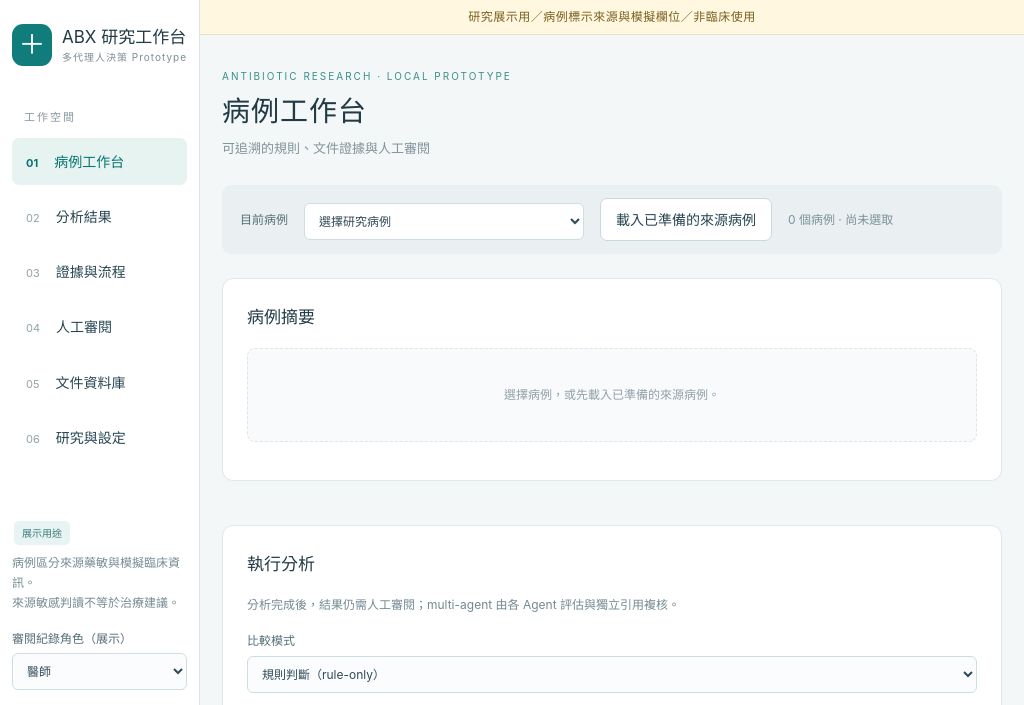
Test: embedding index failure remains visible to the user
Check: the button "載入已準備的來源病例" is enabled, box x1=600 y1=198 x2=772 y2=241
Click the button "05文件資料庫".
click(100, 382)  # box x1=12 y1=358 x2=187 y2=406
(page scrolled)
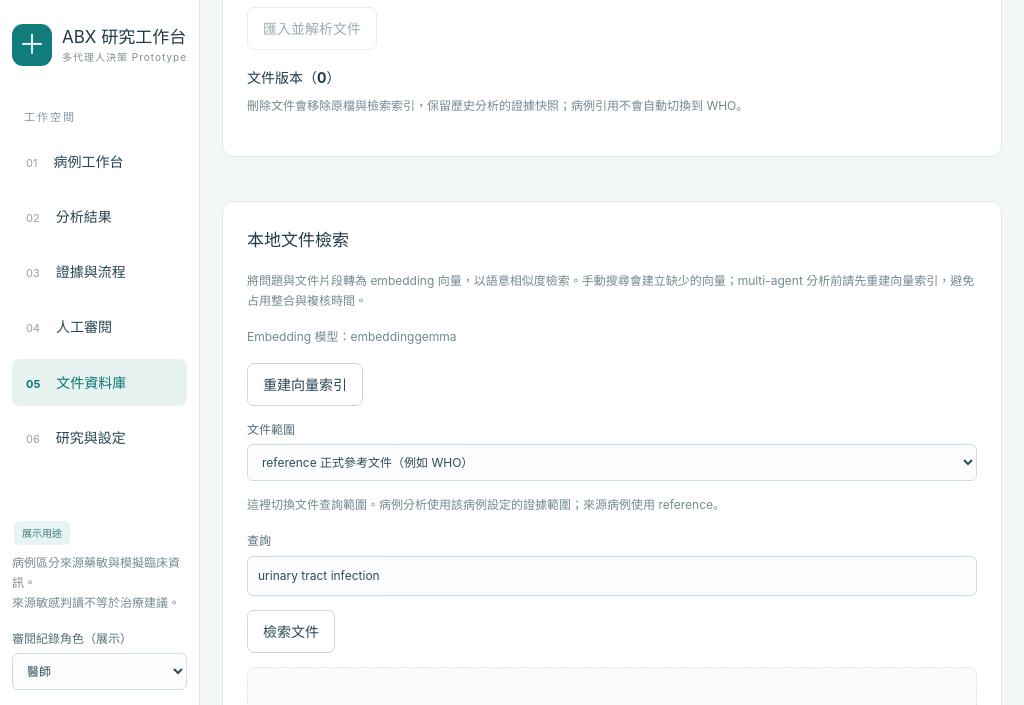
Check: the text "Embedding 模型：embeddinggemma" is shown, box x1=247 y1=329 x2=456 y2=344
Click the button "重建向量索引".
click(305, 384)  # box x1=247 y1=363 x2=363 y2=406
(page scrolled)
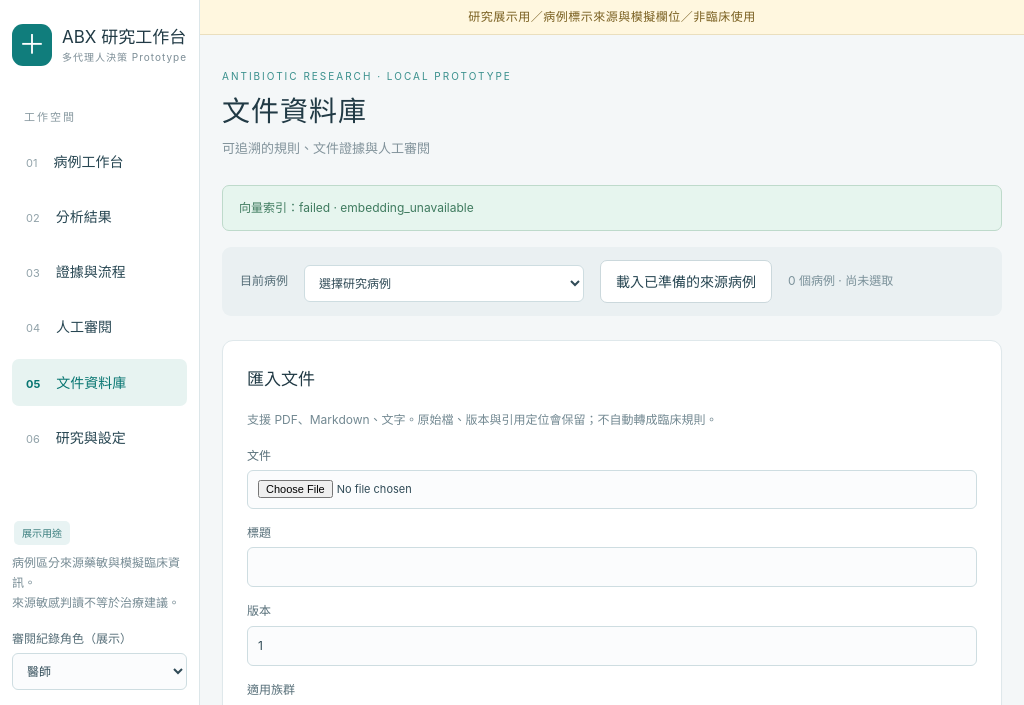
Check: the text "向量索引：failed · embedding_unavailable" is shown, box x1=222 y1=185 x2=1002 y2=231
